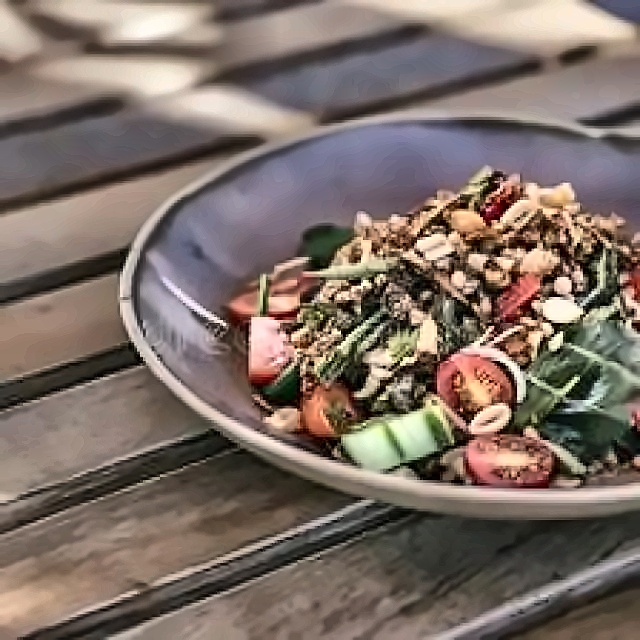cucumber_slice: (334, 418, 400, 472)
